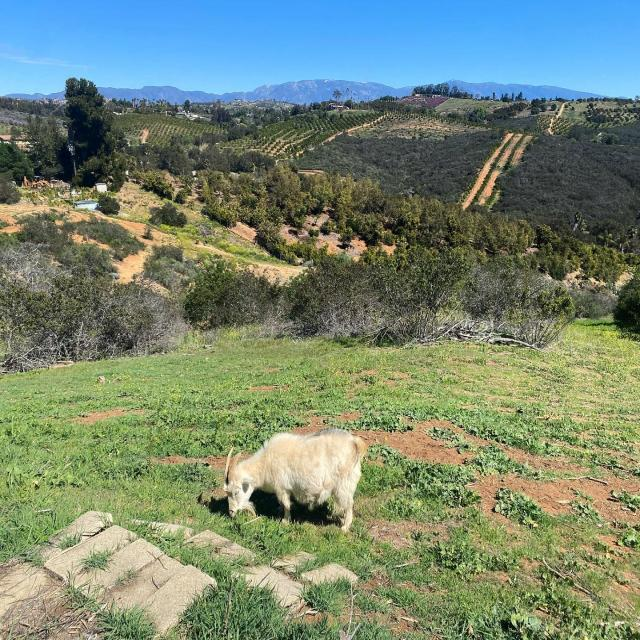goat: (218, 425, 371, 540)
